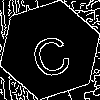C: (25, 25, 75, 80)
